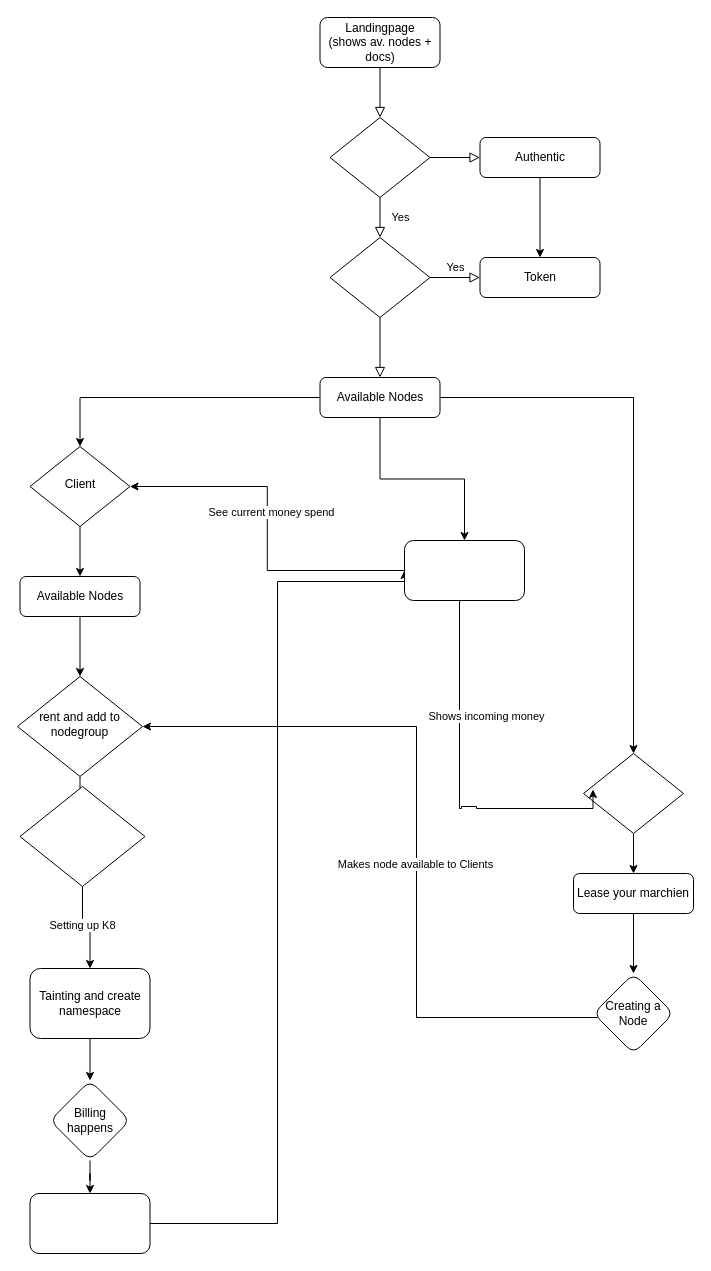
Some shapes in this 711 by 1271 pixel diagram are drawn without their labels. The shapes that lost their labels are listed below. From the top down, each one's centre as x and y in pixels, then its label:
point (379, 157): Signin
point (379, 277): Redirect verify user in DB
point (464, 570): Dashboard
point (633, 793): Provider
point (82, 836): new nodegroup or select existing nodegroup
point (89, 1223): Client connection modal to run stuff
